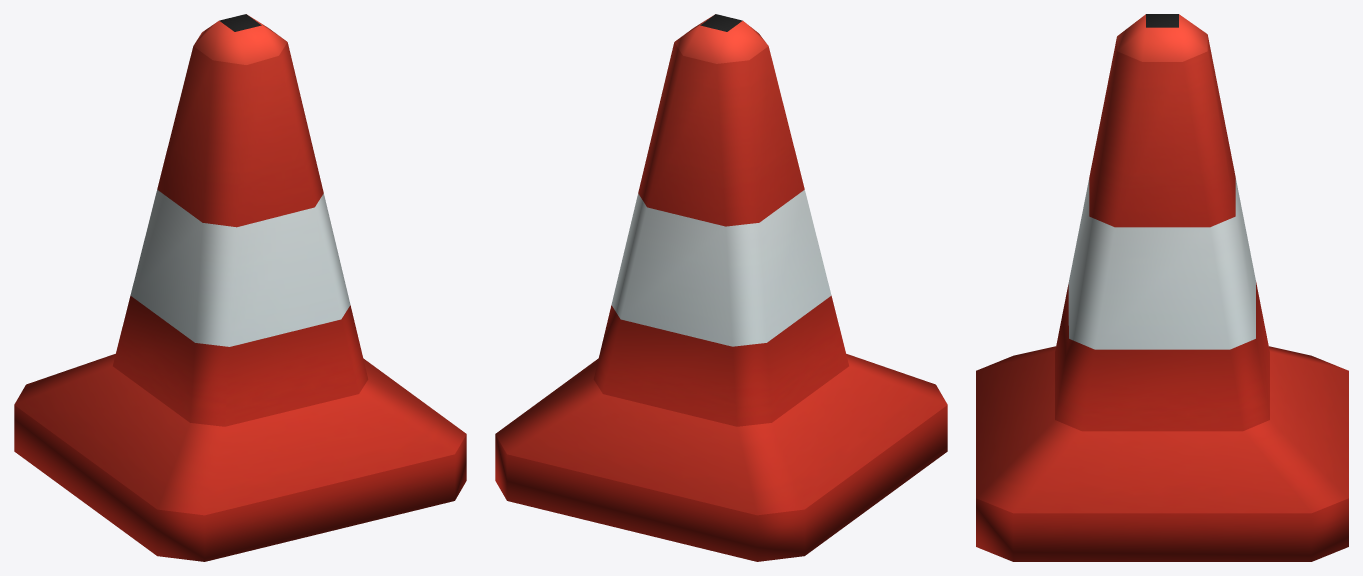
File: traffic_cone.fbx
3 renders of one model, left to right at view 1: azimuth 30°, elevation 25°; view 2: azimuth 150°, elevation 25°; view 3: azimuth 270°, elevation 25°, orthographic. The views are drawn at different scales.
Visible parts, largest first — view 1: traffic_cone; view 2: traffic_cone; view 3: traffic_cone.
Part boxes in pixels (x1,y1,x2,y2): traffic_cone: [14, 14, 466, 561]; traffic_cone: [495, 14, 947, 561]; traffic_cone: [976, 14, 1348, 561].
Bounding box in the file's own units: 86.83 × 119 × 86.83.
